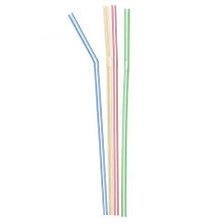drinking_straw: (63, 7, 107, 218), (119, 4, 133, 219)
